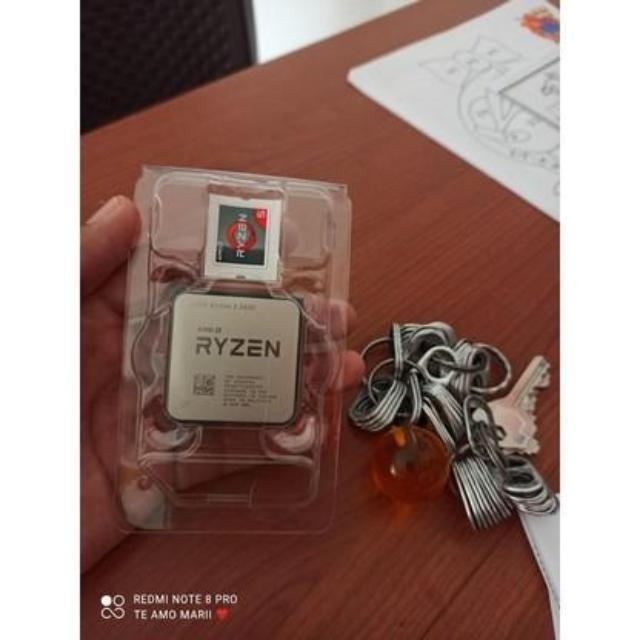CPU: (170, 290, 298, 428)
